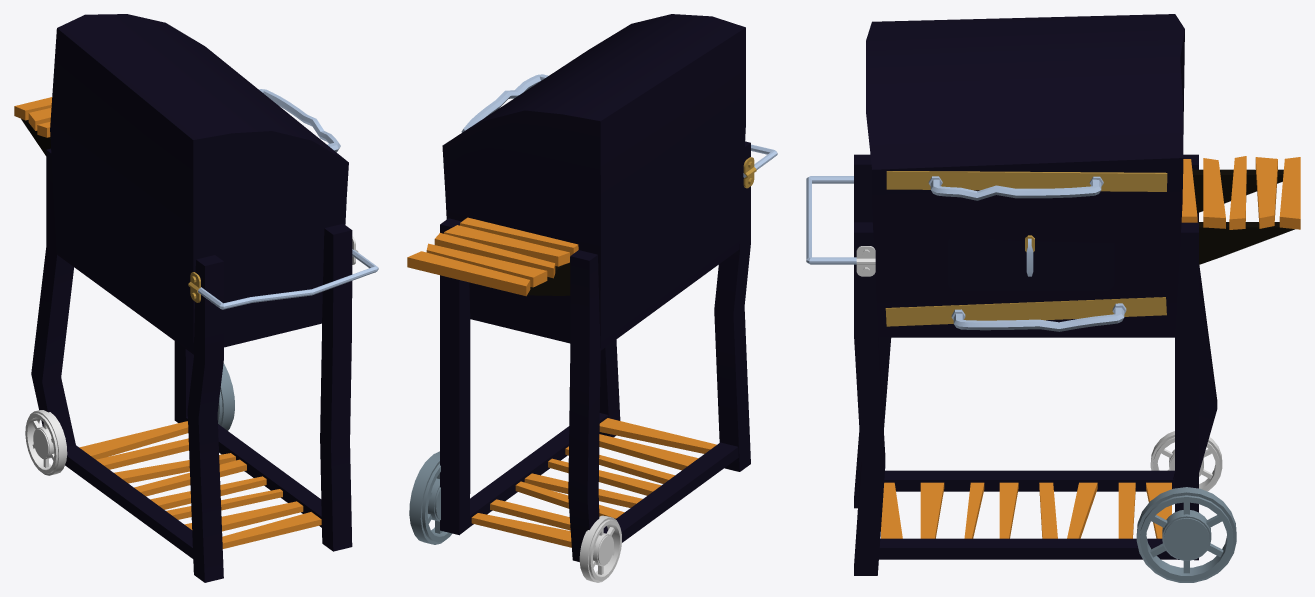
Rendered from Grill.fbx.
3 renders of one model, left to right at view 1: azimuth 30°, elevation 25°; view 2: azimuth 150°, elevation 25°; view 3: azimuth 270°, elevation 25°, orthographic. The views are drawn at different scales.
Parts seen in each view (by area): view 1: Grill, GrillWood, Wheels.001, Handle, TableWood, FrontHandleTop.001, Wheels; view 2: Grill, GrillWood, TableWood, Wheels, Wheels.001, Table, FrontHandleTop.001; view 3: Grill, GrillWood, Wheels, TableWood, FrontHandleBottom, FrontHandleTop, Table, FrontHandleTop.001, FrontHandleBottom.001, Wheels.001, Handle.
Boxes of the visible parts, x1,y1,x2,y2 form: Grill: (31,14,352,582); GrillWood: (79,421,321,548); Wheels.001: (25,410,67,475); Handle: (198,249,378,309); TableWood: (14,97,52,137); FrontHandleTop.001: (259,89,340,151); Wheels: (217,363,234,430); Grill: (440,14,750,561); GrillWood: (471,418,716,547); TableWood: (407,217,578,296); Wheels: (409,451,452,544); Wheels.001: (579,515,621,582); Table: (527,257,570,295); FrontHandleTop.001: (461,74,548,132); Grill: (854,14,1217,575); GrillWood: (881,482,1171,538); Wheels: (1136,487,1236,582); TableWood: (1181,156,1300,229); FrontHandleBottom: (885,297,1166,326); FrontHandleTop: (886,171,1167,191); Table: (1192,169,1294,264); FrontHandleTop.001: (928,176,1103,200); FrontHandleBottom.001: (951,303,1126,331); Wheels.001: (1150,431,1222,491); Handle: (806,176,856,264).
Bounding box in the file's own units: 52 × 117 × 108.
